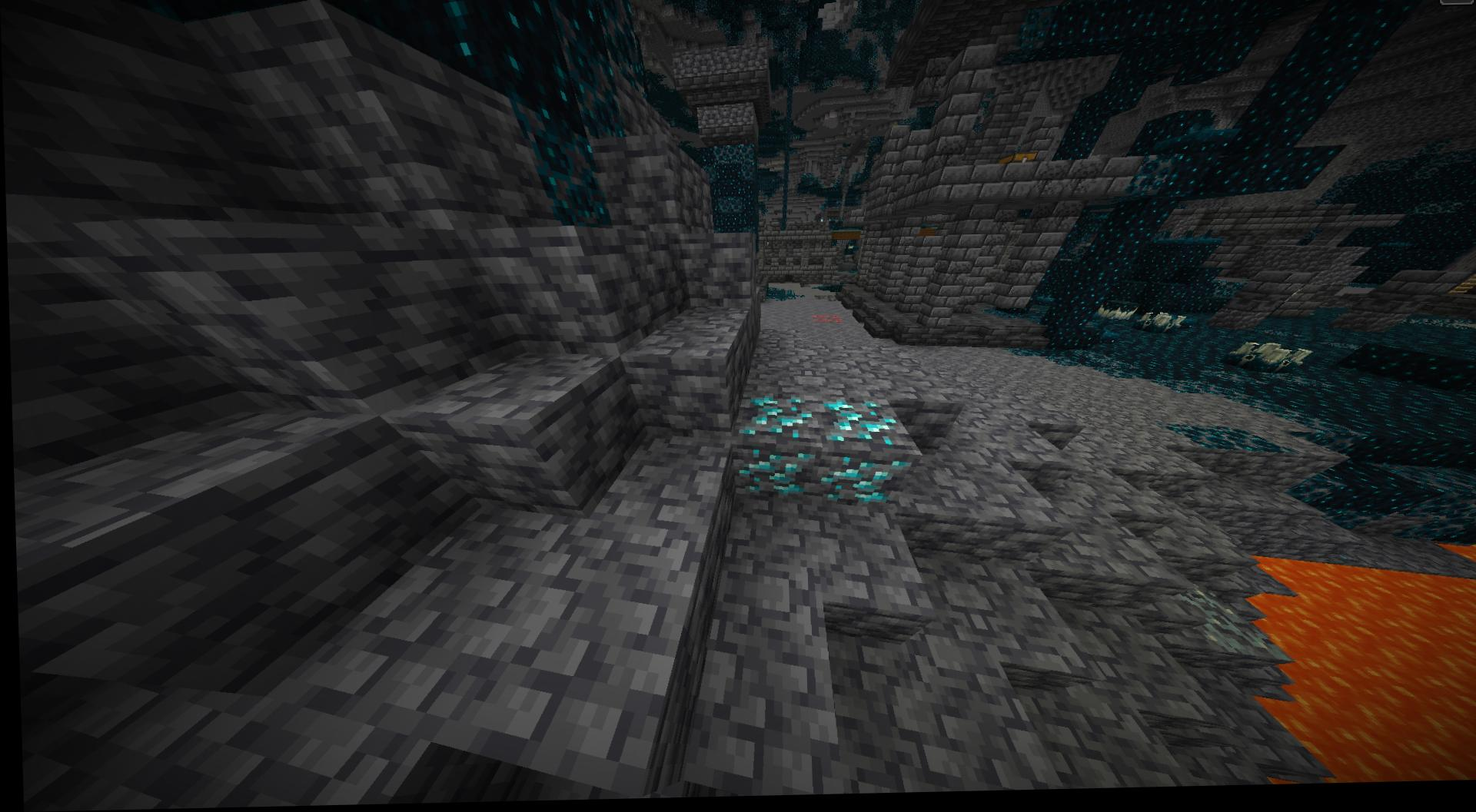diamond ore: (810, 397, 905, 457), (820, 452, 892, 512), (741, 444, 809, 507), (730, 401, 815, 446)
redstone ore: (812, 315, 841, 334)
